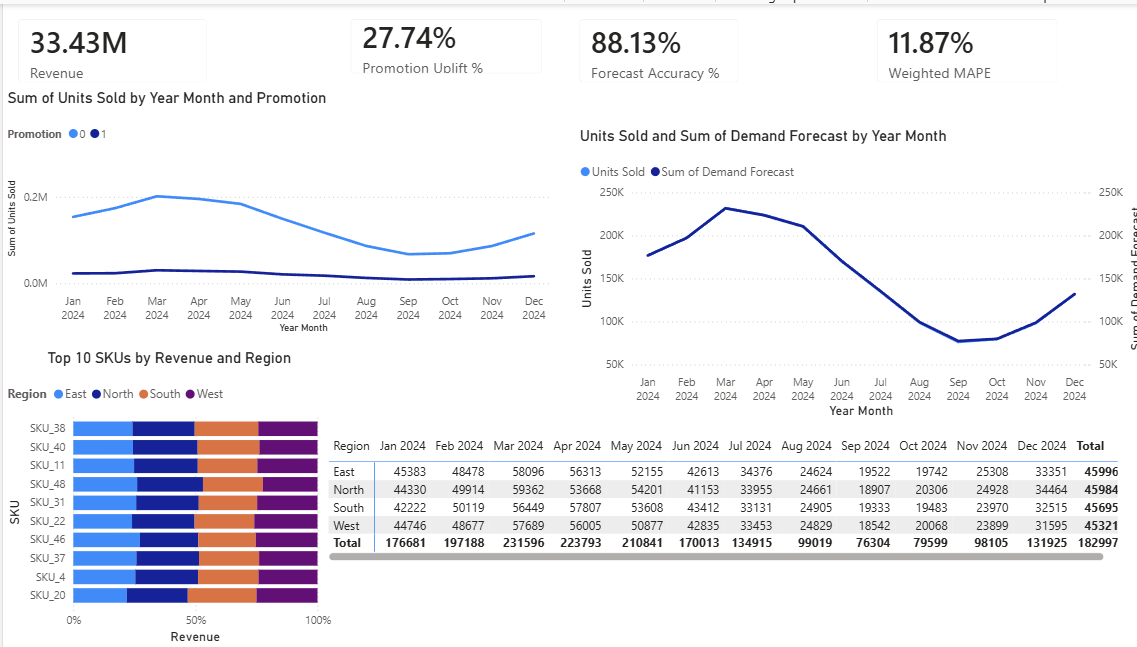

The dashboard page shown, as its layout file describes it:
{"tool":"powerbi","page":{"name":"Sales & Demand","canvas":[1280,720],"ordinal":2},"visuals":[{"type":"cardVisual","fields":{"Data":["_Measures (2).Revenue"]},"box":[0,0,245.6,105.7],"z":0},{"type":"cardVisual","fields":{"Data":["_Measures (2).Forecast Accuracy %"]},"box":[627.1,0,212.7,105.7],"z":1000},{"type":"cardVisual","fields":{"Data":["_Measures (2).Weighted MAPE"]},"box":[960.6,0,236,105.7],"z":2000},{"type":"lineChart","fields":{"Y":["Sum(Fact Supply Chain.Units Sold)"],"Category":["Dim Date.Year Month"],"Series":["Fact Supply Chain.Promotion"]},"box":[0,95,620.6,278.1],"z":3000},{"type":"lineChart","fields":{"Category":["Dim Date.Year Month"],"Y2":["Sum(Fact Supply Chain.Demand Forecast)"],"Y":["_Measures (2).Units Sold"]},"box":[640.1,137,639.5,330.7],"z":4000},{"type":"hundredPercentStackedBarChart","title":"Top 10 SKUs by Revenue and Region","fields":{"Category":["Dim Product.SKU"],"Series":["Dim Region.Region"],"Y":["_Measures (2).Revenue"]},"box":[0,385.8,371.9,334.8],"z":5000},{"type":"pivotTable","fields":{"Rows":["Dim Region.Region"],"Columns":["Dim Date.Year Month"],"Values":["Sum(Fact Supply Chain.Units Sold)"]},"box":[359.2,478,891.9,149.6],"z":6000},{"type":"cardVisual","fields":{"Data":["_Measures (2).Promotion Uplift %"]},"box":[371.8,0,248.8,95],"z":7000}]}

Visuals, with their boxes in screenshot pixels (x1, y1, x2, y2), scaled from the page's 1280x720 canvas onto the 1137x647 screenshot:
cardVisual - _Measures (2).Revenue: 0 0 218 95
cardVisual - _Measures (2).Forecast Accuracy %: 557 0 746 95
cardVisual - _Measures (2).Weighted MAPE: 853 0 1063 95
lineChart - Sum(Fact Supply Chain.Units Sold) x Dim Date.Year Month: 0 85 551 335
lineChart - Dim Date.Year Month x Sum(Fact Supply Chain.Demand Forecast): 569 123 1136 420
"Top 10 SKUs by Revenue and Region" hundredPercentStackedBarChart: 0 347 330 646
pivotTable - Dim Region.Region x Dim Date.Year Month: 319 430 1111 564
cardVisual - _Measures (2).Promotion Uplift %: 330 0 551 85
